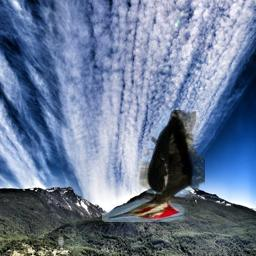Woodpecker: (102, 110, 205, 222)
